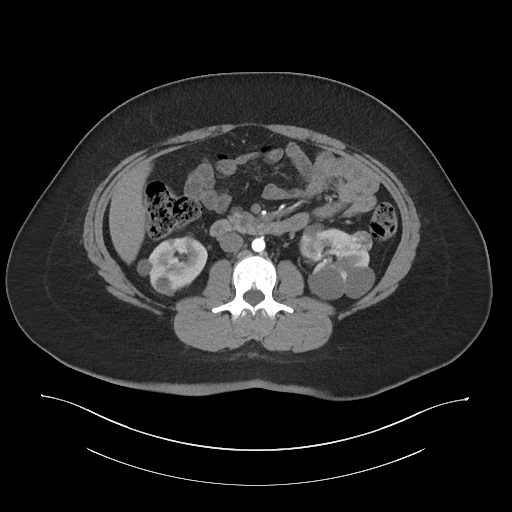Lesion: (350, 226, 376, 257)
